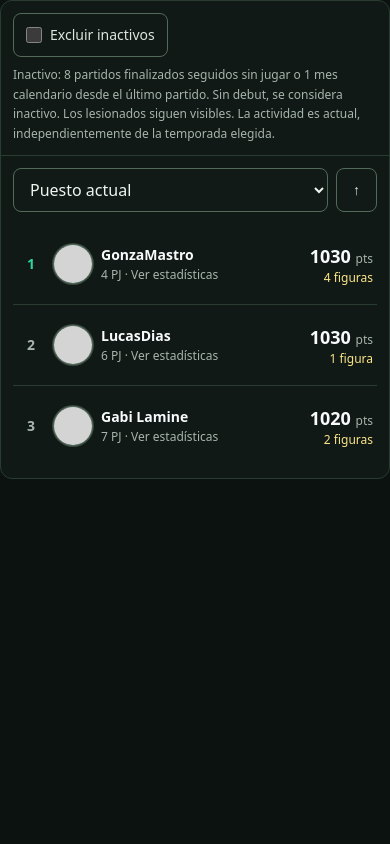
Test case: RankingTableQuery › muestra la forma reciente con letras y colores sin depender de Efectividad
Expected: the text "Gabi Lamine" is shown, x1=101 y1=407 x2=188 y2=426
Step 1. Click the heading named "Estadísticas de Gabi Lamine:" → (200, 427), box x1=27 y1=406 x2=373 y2=448
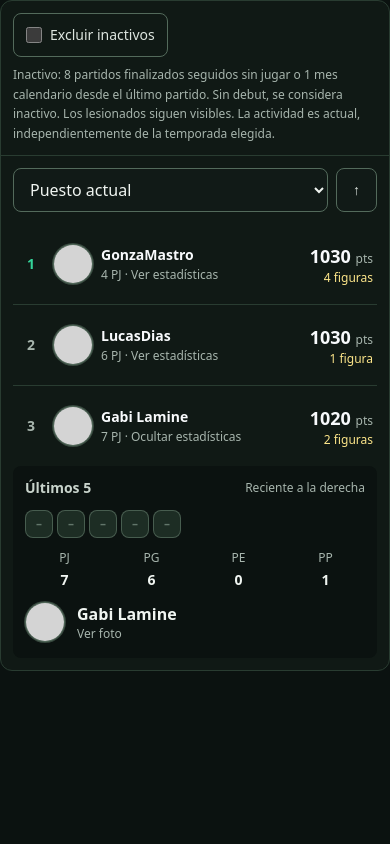
Expected: the picture named "sin partidos jugados" is shown, x1=25 y1=510 x2=181 y2=538
